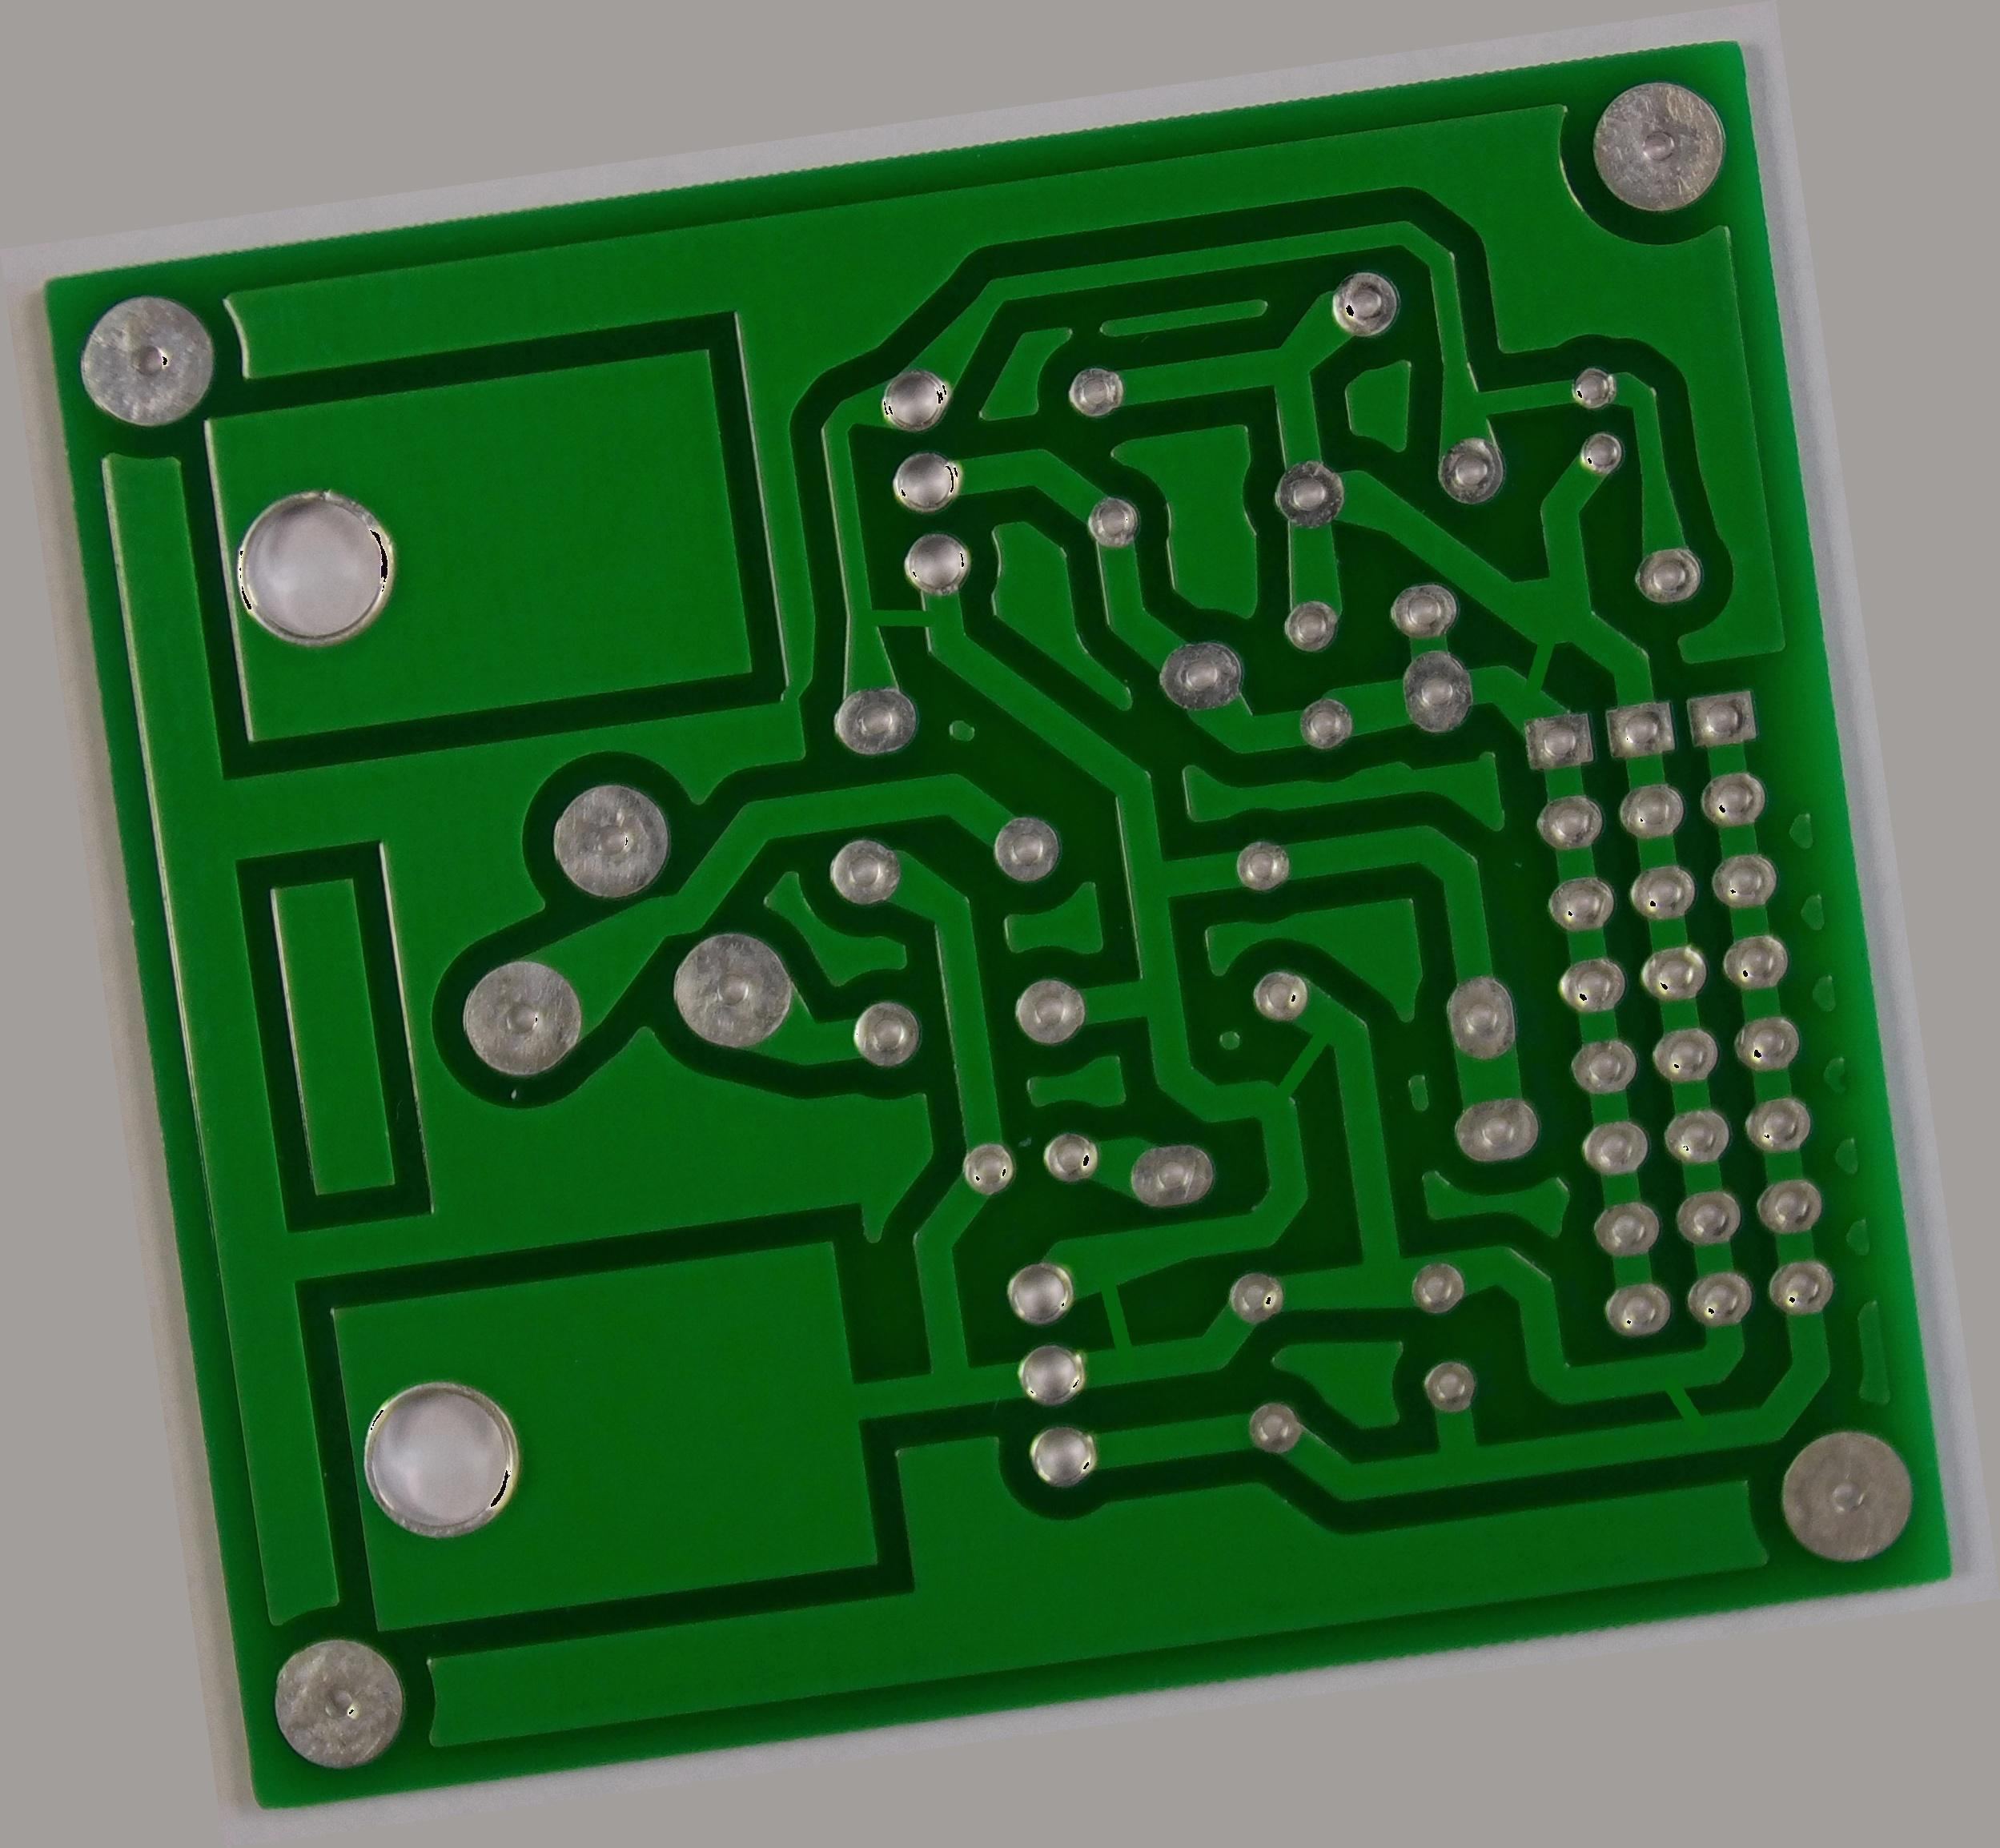short: (1226, 1000, 1361, 1113), (1063, 1256, 1176, 1379), (834, 566, 967, 671), (1486, 601, 1592, 714), (1627, 1352, 1732, 1463)
